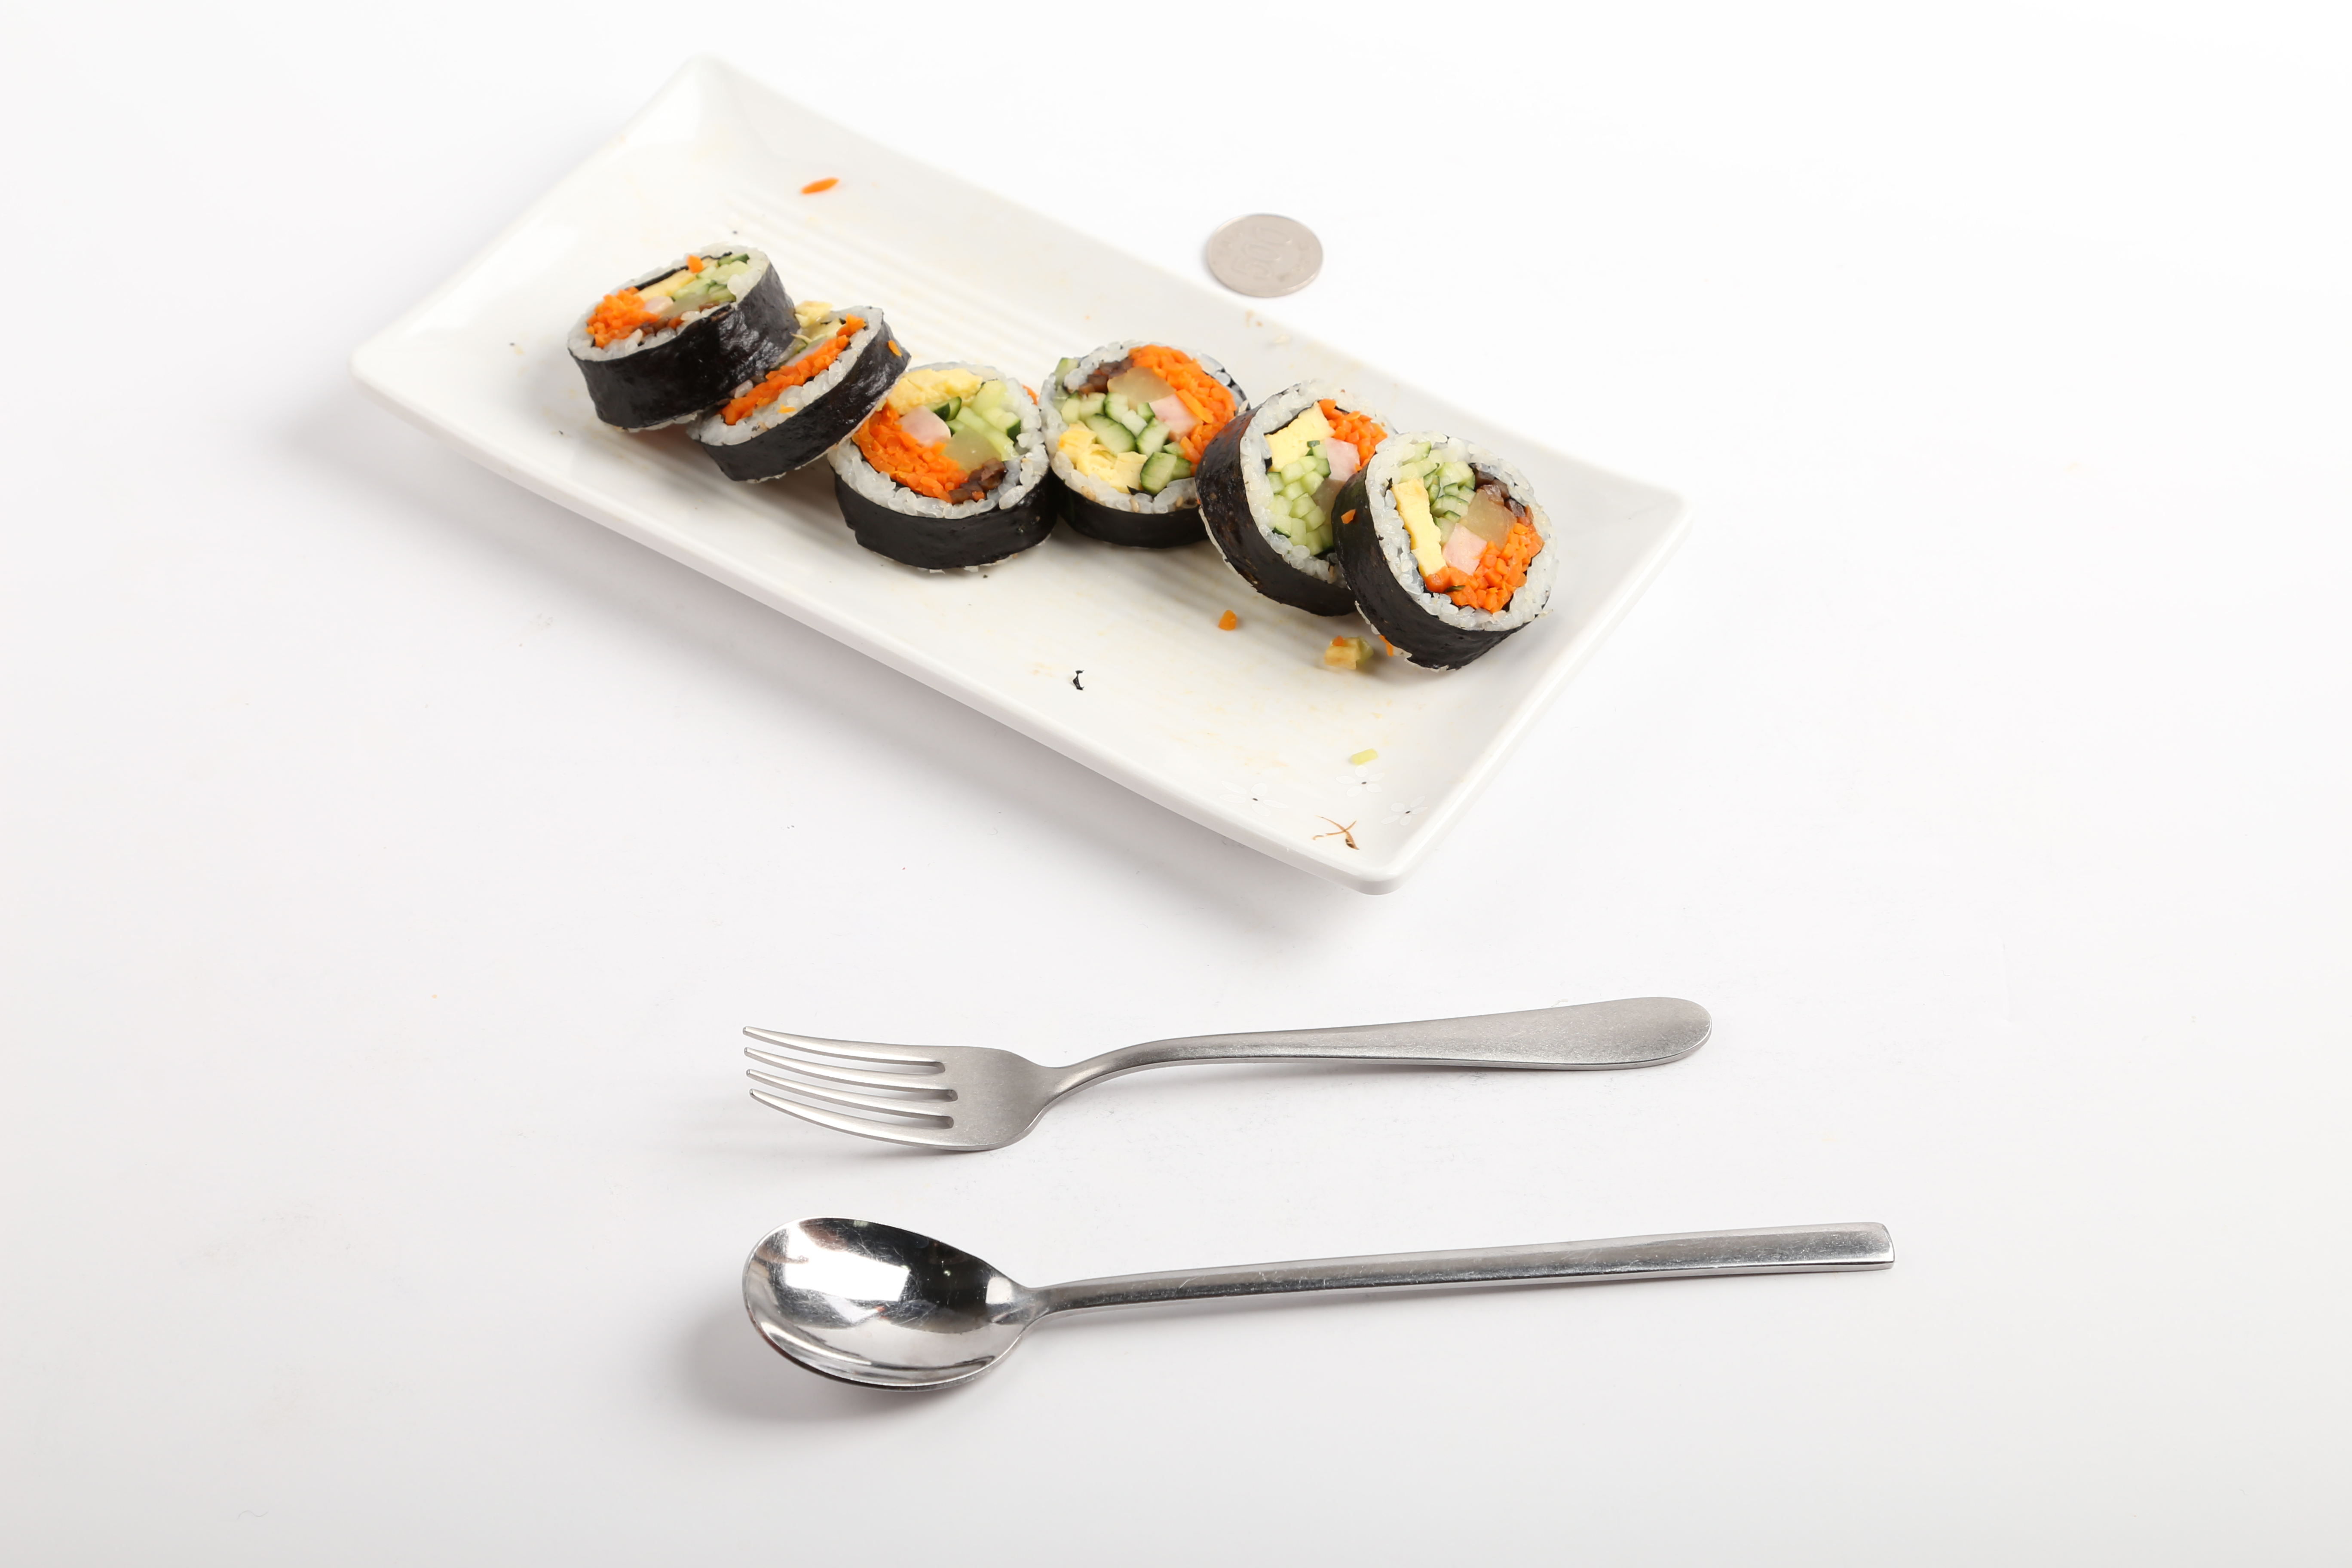dish: (339, 40, 1697, 896)
ref_coin: (1197, 208, 1332, 304)
ref_fork: (740, 1008, 1155, 1153)
ref_spoon: (733, 1209, 1123, 1398)
김밥: (567, 236, 1561, 681)
